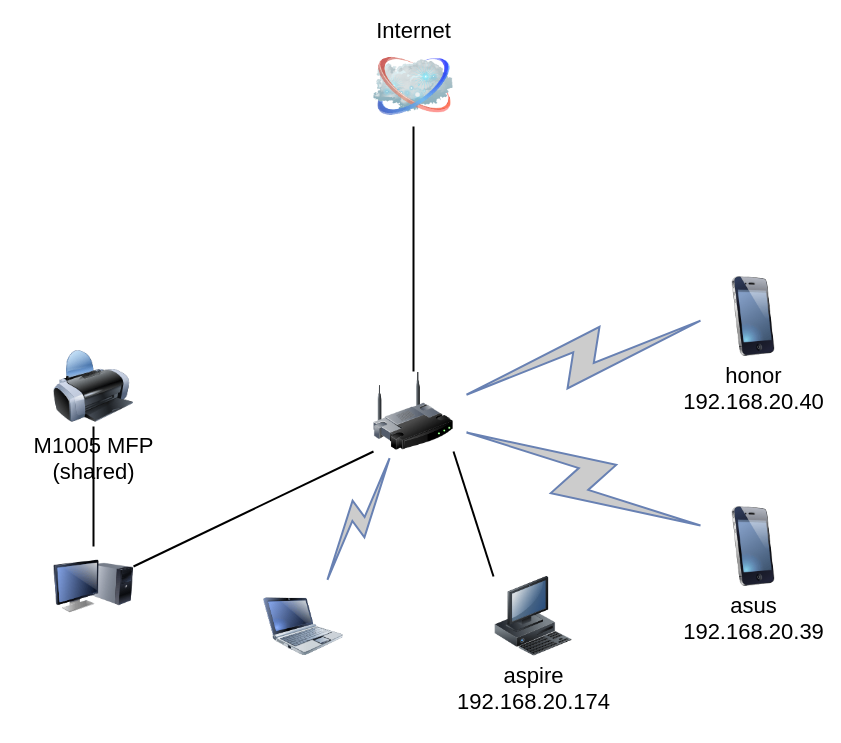
Image size: 841x743. Some labels were removed from this diagram. The shapes that lost their labels are listed below. From the top down, each one's box as (x1, y1, x2, y2) in pixels, then its label:
(53, 546, 133, 626): host-63 192.168.20.188
(263, 586, 343, 666): intel 192.168.20.246
